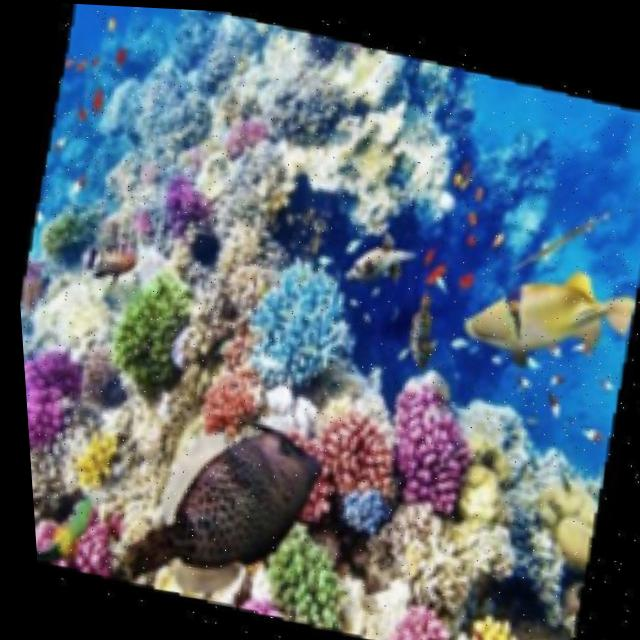Healthy Coral: (209, 224, 407, 417), (76, 231, 245, 424), (355, 348, 512, 543), (223, 492, 402, 640), (24, 466, 159, 606), (288, 387, 425, 524), (16, 313, 126, 481), (11, 164, 134, 300), (106, 144, 235, 264), (49, 403, 158, 509), (360, 572, 474, 640), (198, 90, 290, 164), (446, 589, 543, 640)
